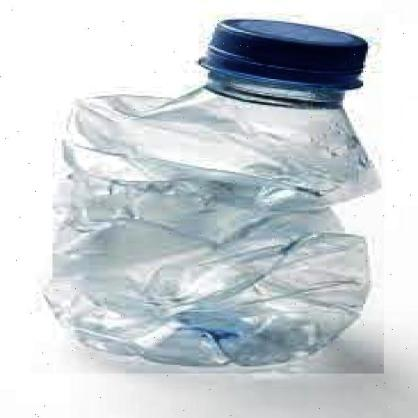bottle: (31, 13, 384, 374)
cap: (190, 20, 372, 97)
